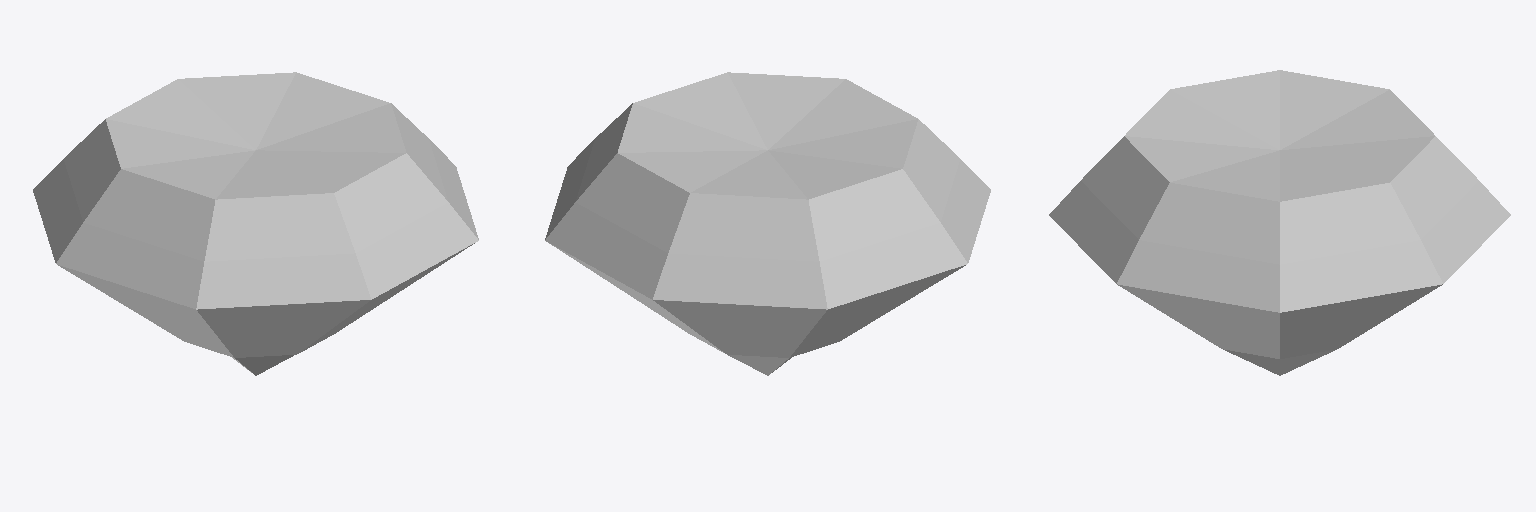
The model's file is MSH_Diamante.obj.
The picture shows the model from 3 angles: view 1: azimuth 30°, elevation 25°; view 2: azimuth 150°, elevation 25°; view 3: azimuth 270°, elevation 25°; orthographic projection.
Visible parts, largest first — view 1: MSH_Diamante; view 2: MSH_Diamante; view 3: MSH_Diamante.
Part boxes in pixels (left/top/right/bottom): MSH_Diamante: left=33, top=72, right=478, bottom=375; MSH_Diamante: left=545, top=72, right=990, bottom=375; MSH_Diamante: left=1049, top=70, right=1510, bottom=375.
Bounding box in the file's own units: 1.83 × 1.05 × 1.83.